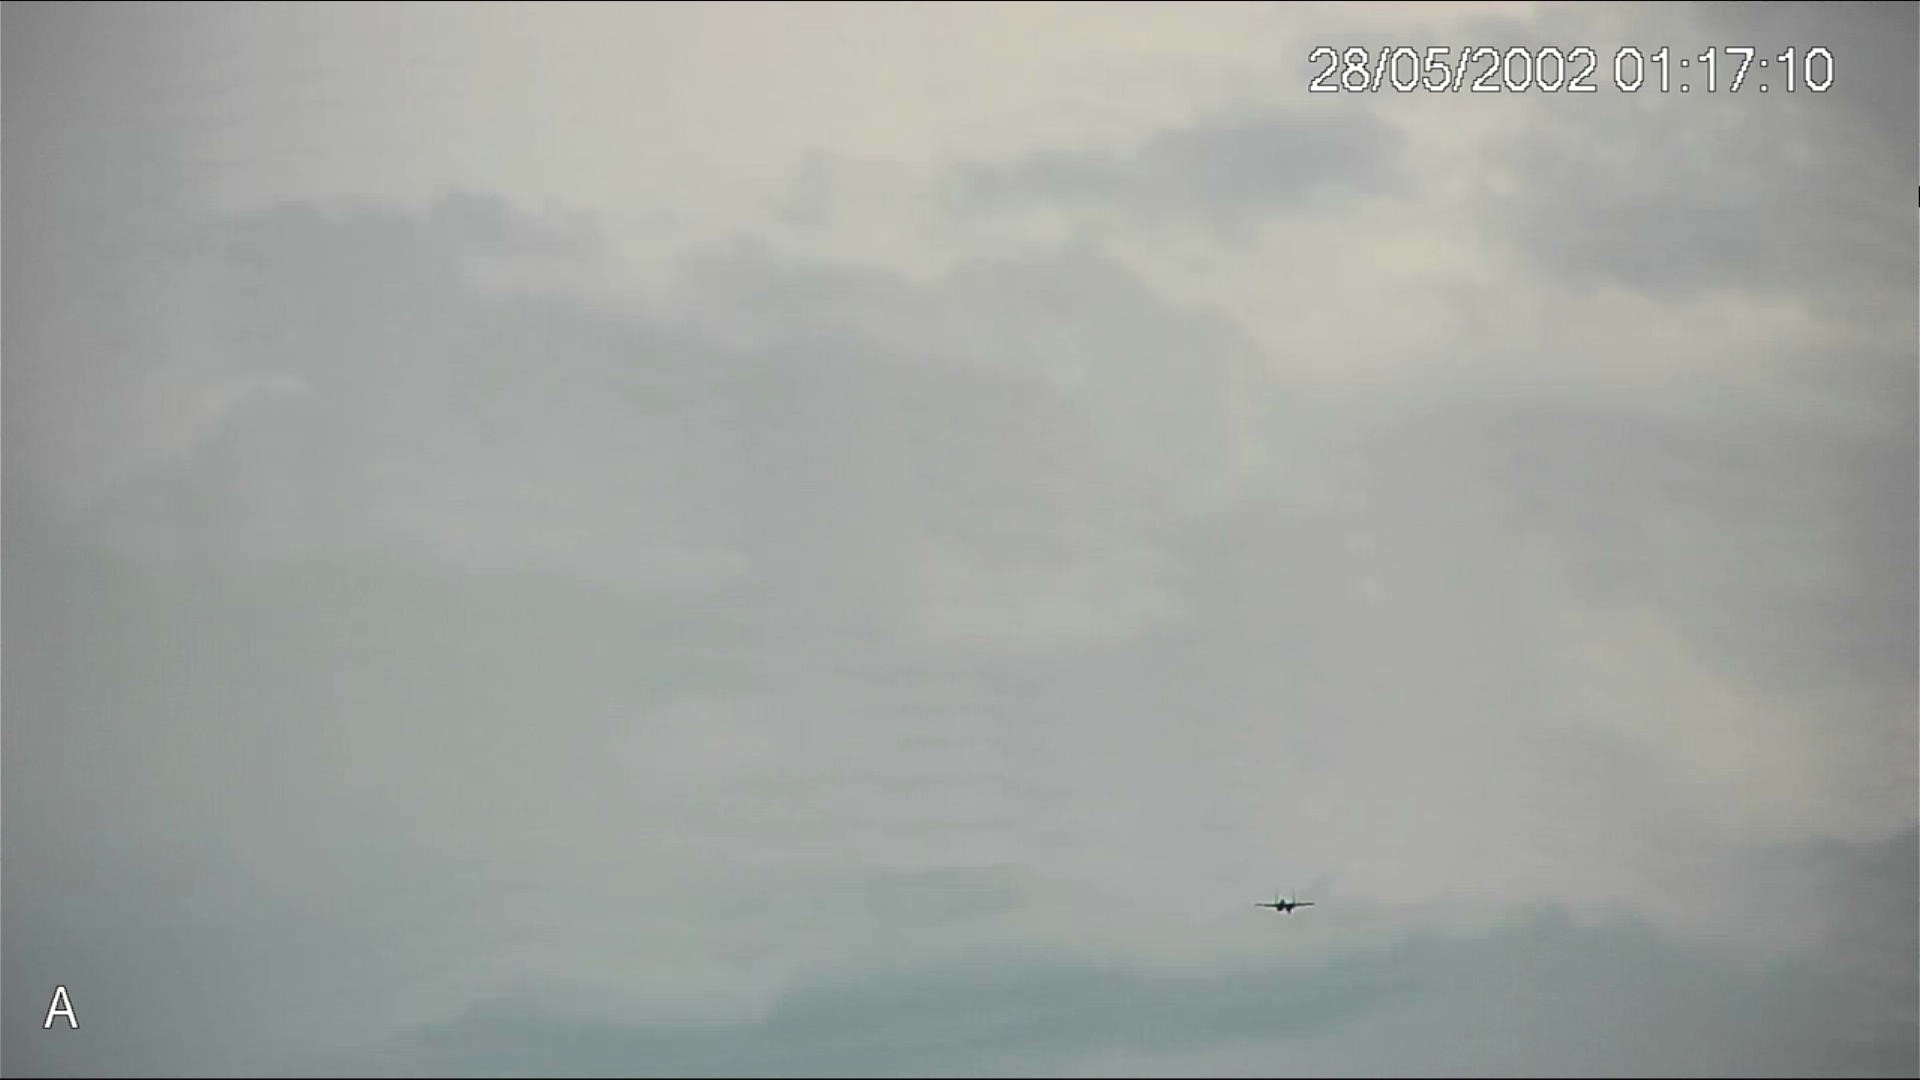SU_30: (1254, 891, 1316, 915)
